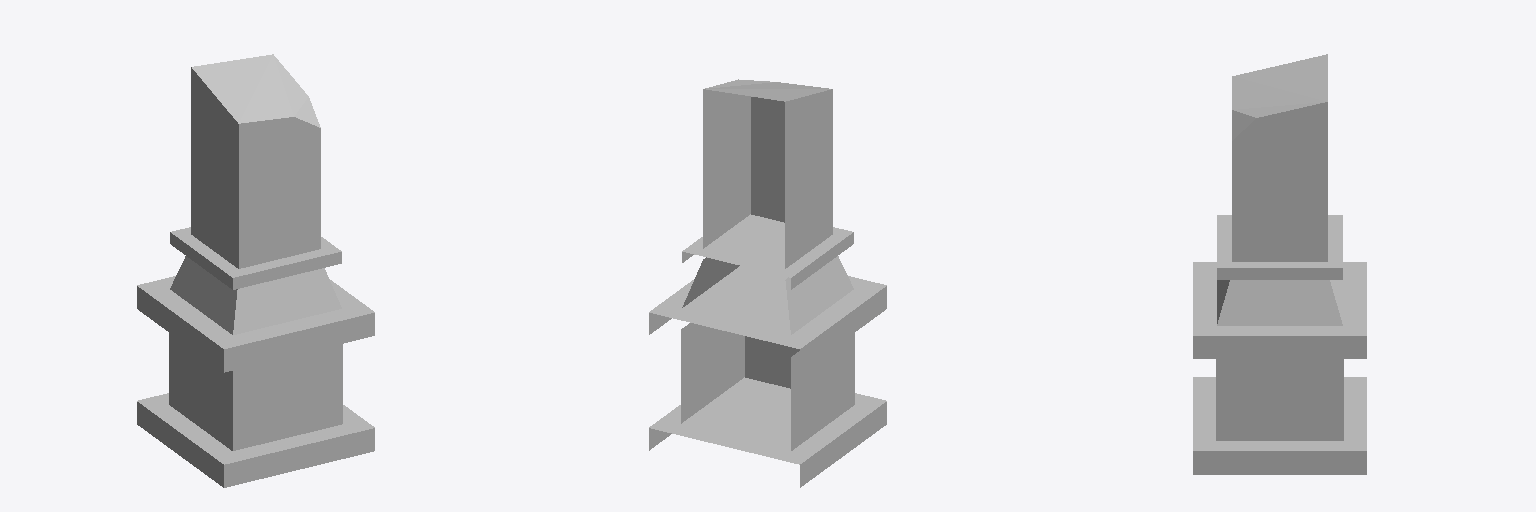
Rendered from Column_03.obj.
3 views of the same model, side by side, from view 1: azimuth 30°, elevation 25°; view 2: azimuth 150°, elevation 25°; view 3: azimuth 270°, elevation 25° (orthographic).
Parts seen in each view (by area): view 1: column_03_Cube.011; view 2: column_03_Cube.011; view 3: column_03_Cube.011.
Part boxes in pixels (bbox=[...]): column_03_Cube.011: bbox=[137, 54, 374, 487]; column_03_Cube.011: bbox=[649, 79, 886, 487]; column_03_Cube.011: bbox=[1193, 54, 1366, 474].
Size of the model in its own units: 0.4201 by 0.9633 by 0.4201.